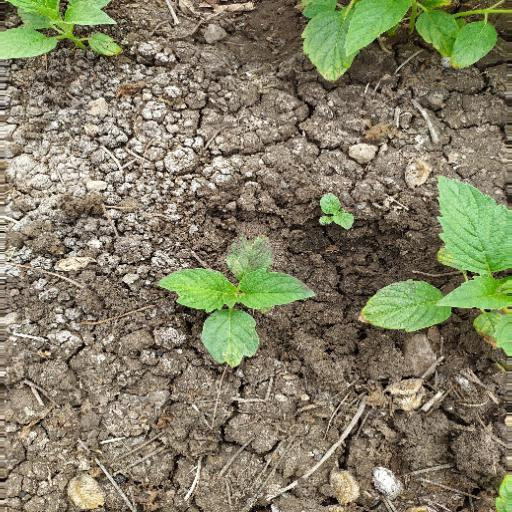crop: (355, 160, 512, 406), (149, 223, 326, 377), (286, 1, 501, 78), (1, 1, 136, 64)
